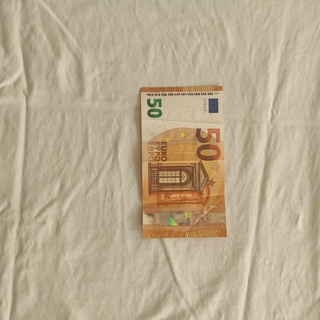50EUROFront: (139, 84, 228, 238)
